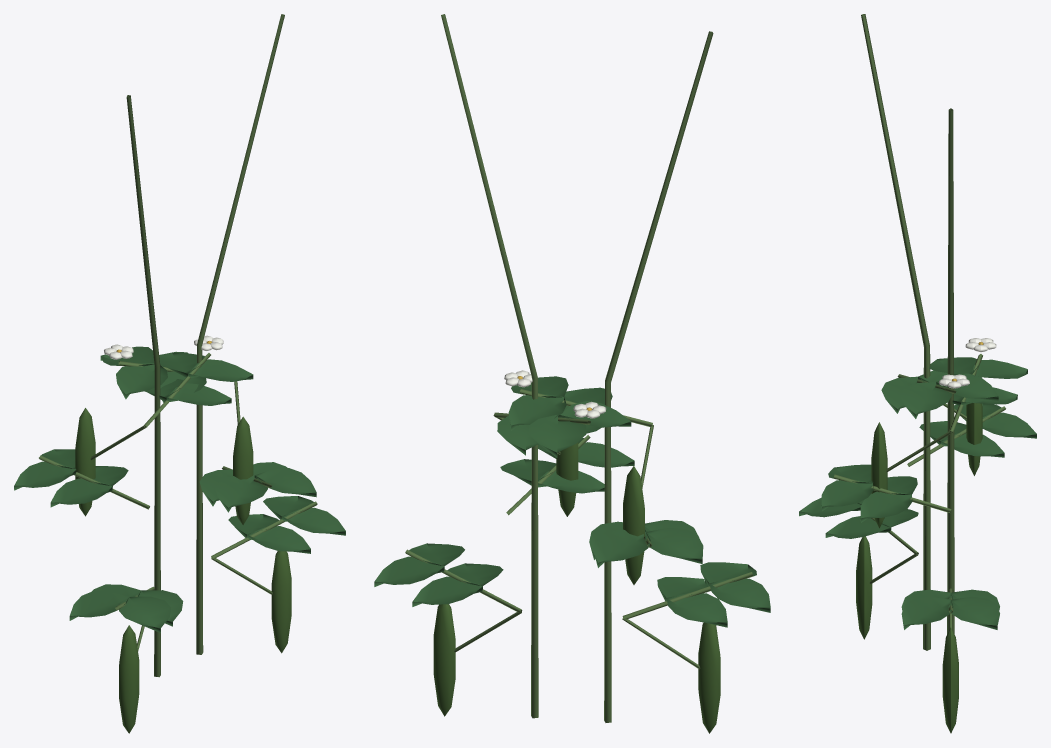
The model's file is arveja.glb.
3 views of the same model, side by side, from view 1: azimuth 30°, elevation 25°; view 2: azimuth 150°, elevation 25°; view 3: azimuth 270°, elevation 25° (orthographic). The views are drawn at different scales.
Visible parts, largest first — view 1: arveja; view 2: arveja; view 3: arveja.
Boxes of the visible parts, x1,y1,x2,y2 form: arveja: (14, 14, 345, 733); arveja: (374, 14, 770, 733); arveja: (799, 14, 1036, 733).
Size of the model in its own units: 0.4277 by 0.8783 by 0.3026.
